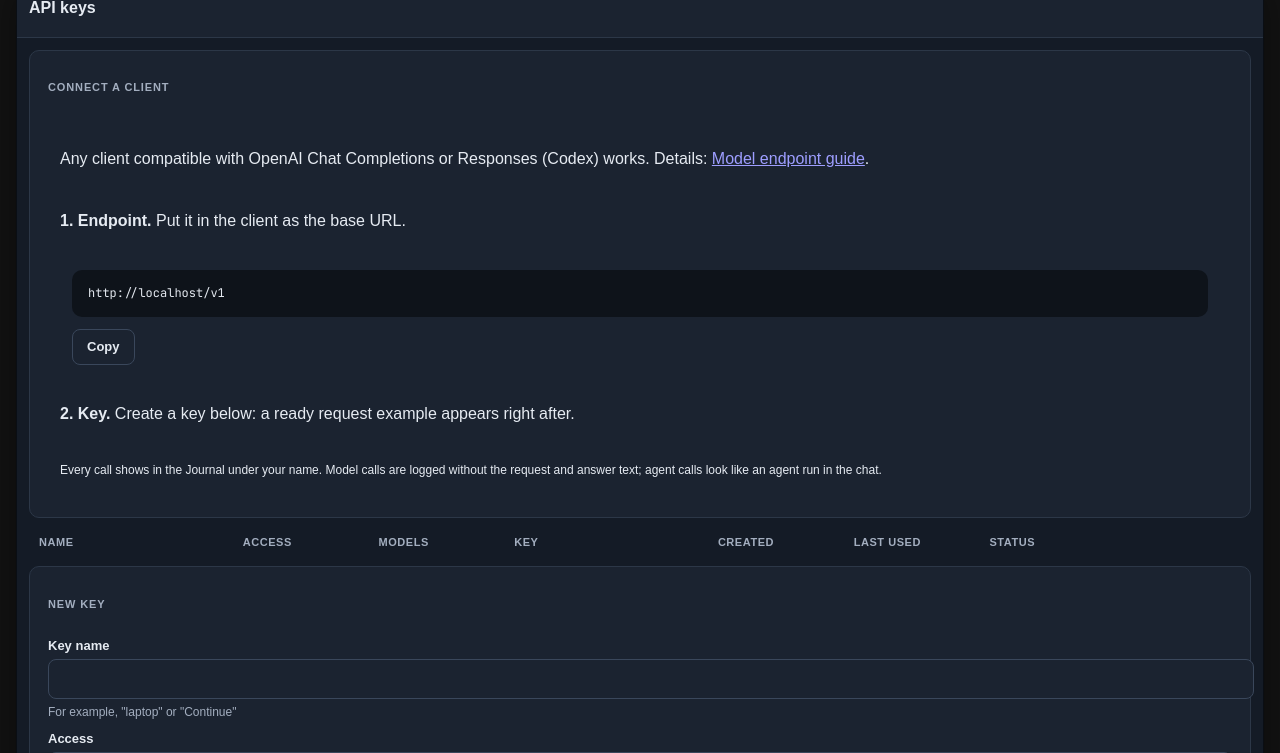
Scenario: API keys › an agent key: access choice, curl with agent/<name>, access in the list
Type "bot" into the field labelled "Key name".
click(651, 679); type("bot")  # box [48,659,1254,699]
(page scrolled)
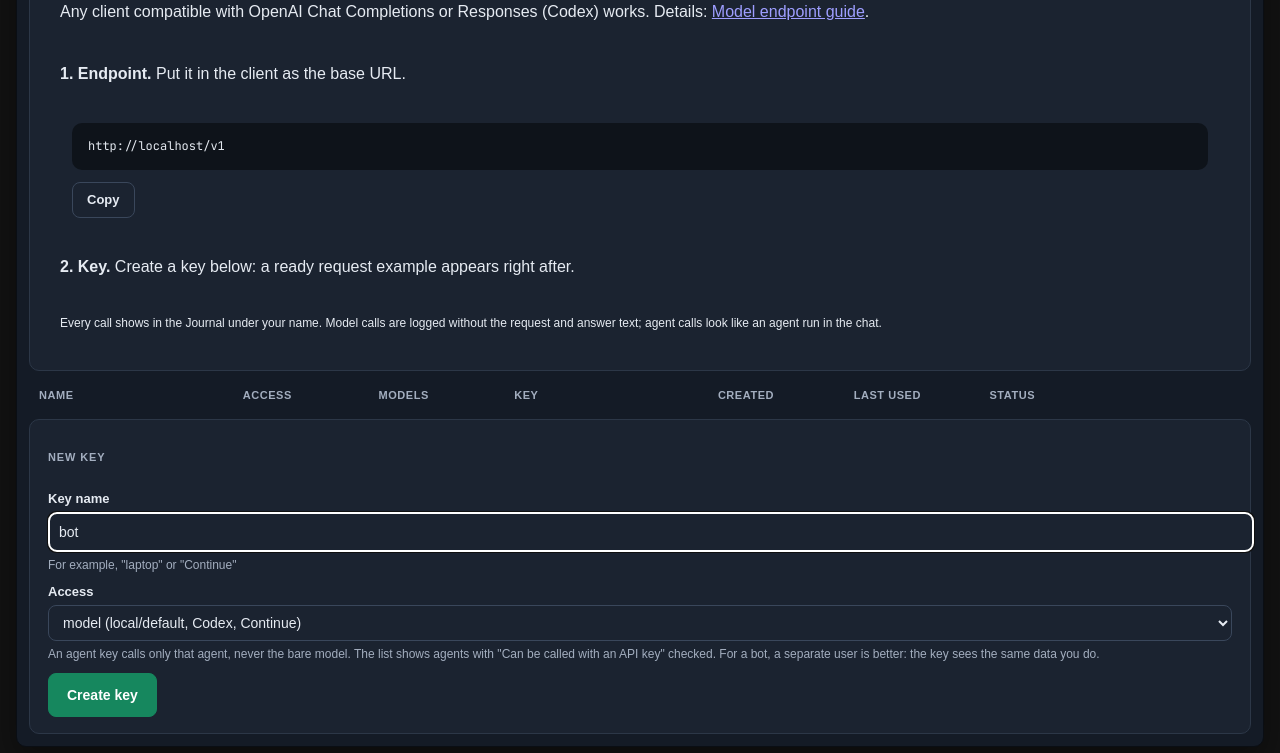
Select "agent sales-bot" in the dropdown labelled "Access" at (640, 623), box [48,605,1232,641]
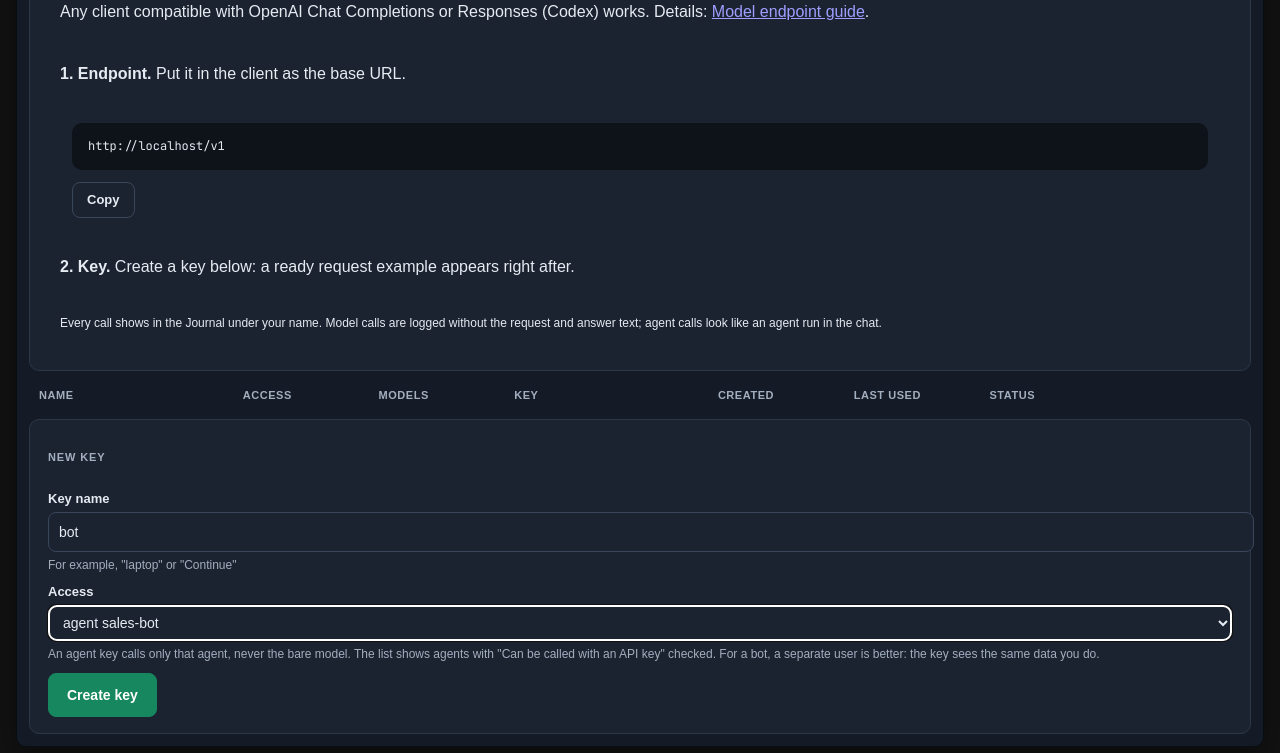
Click the button "Create key".
click(102, 695)  # box [48,673,157,717]
(page scrolled)
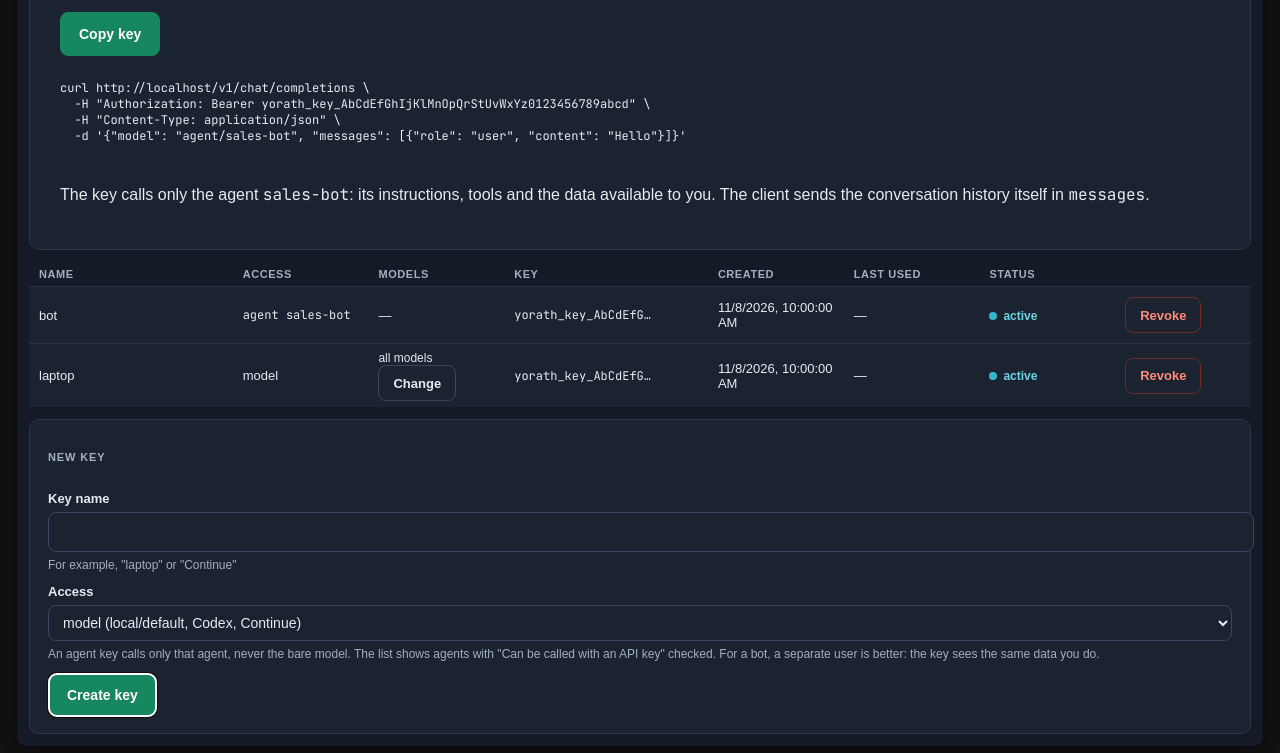
Check: the text named "Request example" shows "\"model\": \"agent/sales-bot\"", box [60,80,686,144]
Check: the text "agent sales-bot" is shown, box [243,307,351,323]
Check: the text "model" is shown, box [233,344,368,407]
